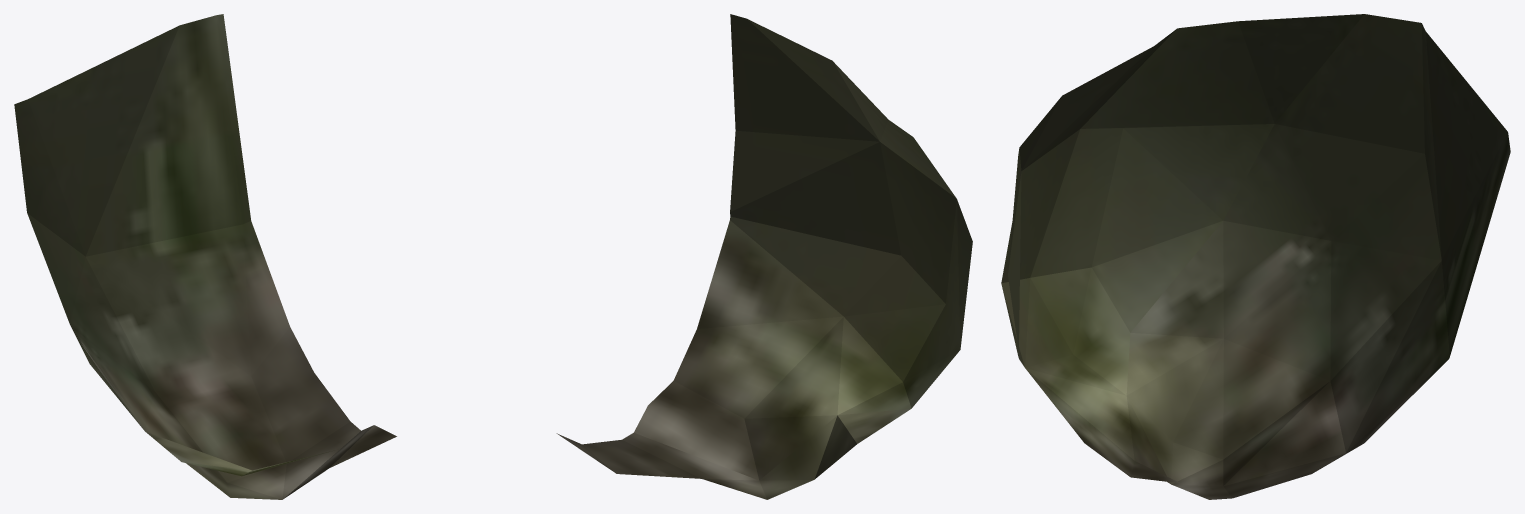
3 renders of one model, left to right at view 1: azimuth 30°, elevation 25°; view 2: azimuth 150°, elevation 25°; view 3: azimuth 270°, elevation 25°, orthographic. The views are drawn at different scales.
Size of the model in its own units: 0.5457 by 0.649 by 0.7882.
1 material, 1 textured.
